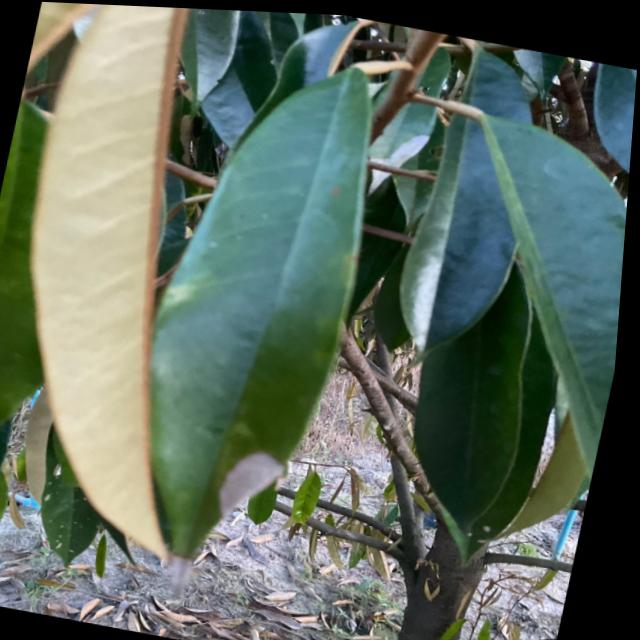Leaf Blight: (161, 69, 372, 568)
